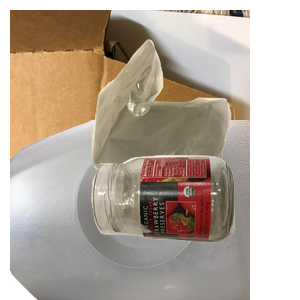cardboard: (10, 10, 250, 190)
glass: (89, 153, 300, 300)
plastic: (10, 120, 250, 300)
trash: (89, 37, 300, 213)
